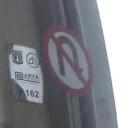NoVirarU: (40, 21, 98, 97)
